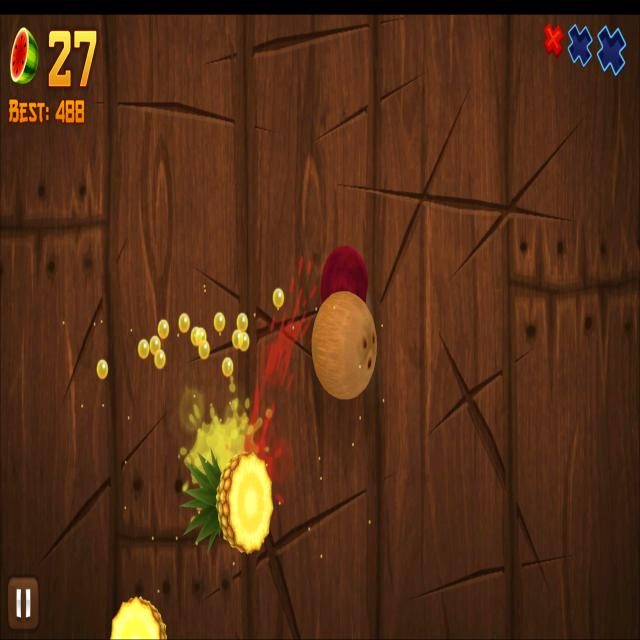fruit: (310, 289, 378, 402), (320, 246, 370, 303)
